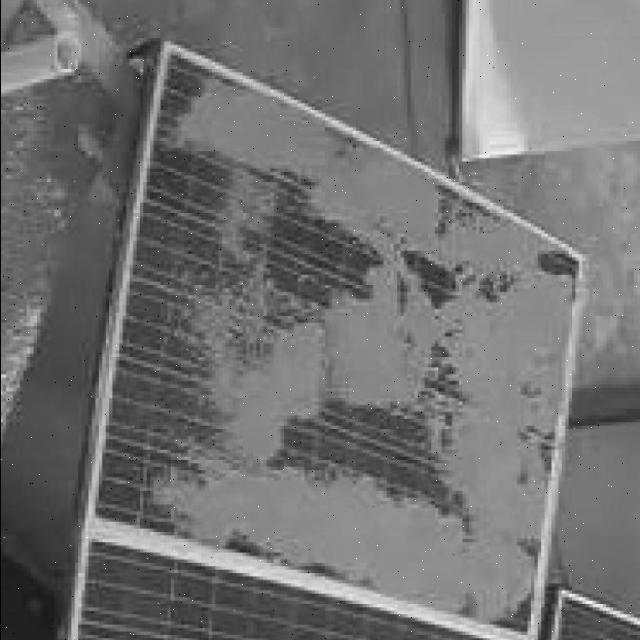Anomaly Solar Panel: (43, 53, 640, 636)
Surface Contaminant: (72, 69, 634, 632)
